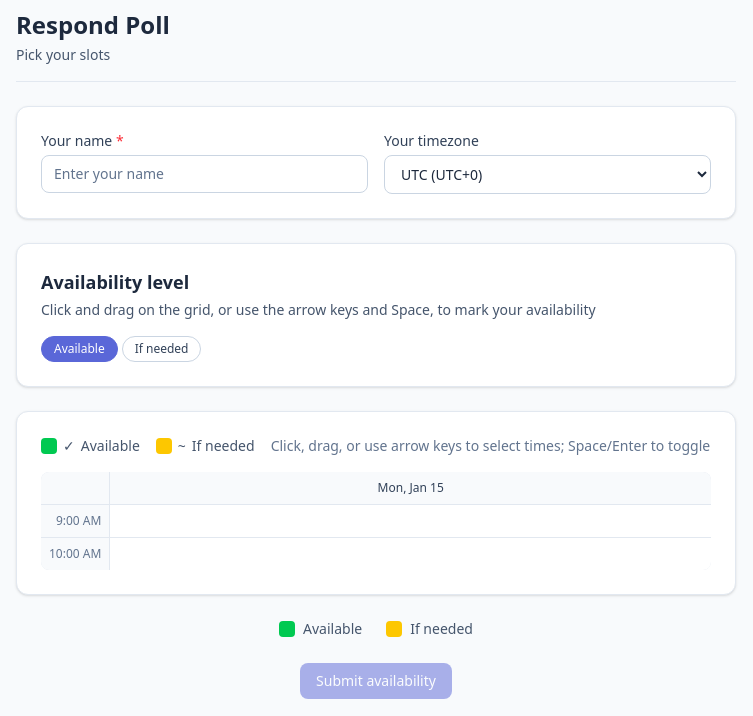
Test: PollRespond - submission › submits a new response and shows the success screen with an edit link
The image size is (753, 716).
Type "Bob" into the field labelled "Your name *" at (204, 174), box x1=41 y1=155 x2=368 y2=193
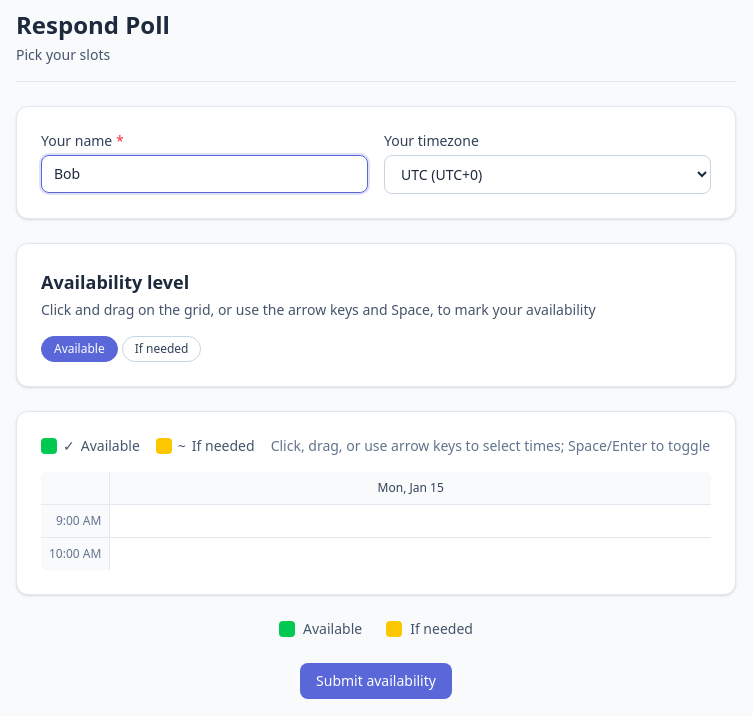
Press the mouse on the button named "9:00 AM on Mon, Jan 15: not selected" at (411, 521), box x1=110 y1=505 x2=711 y2=537
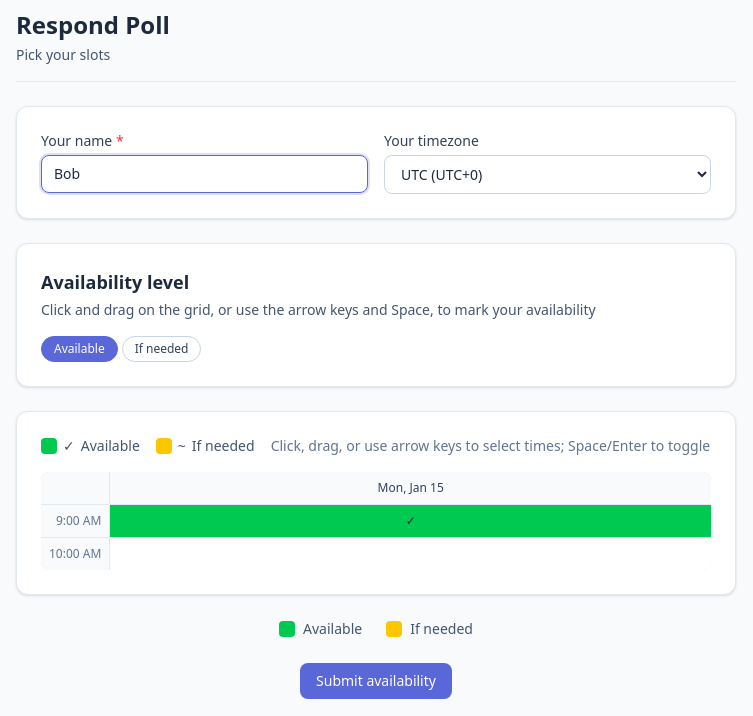
Click the button "Submit availability" at (376, 681), box x1=300 y1=663 x2=452 y2=699
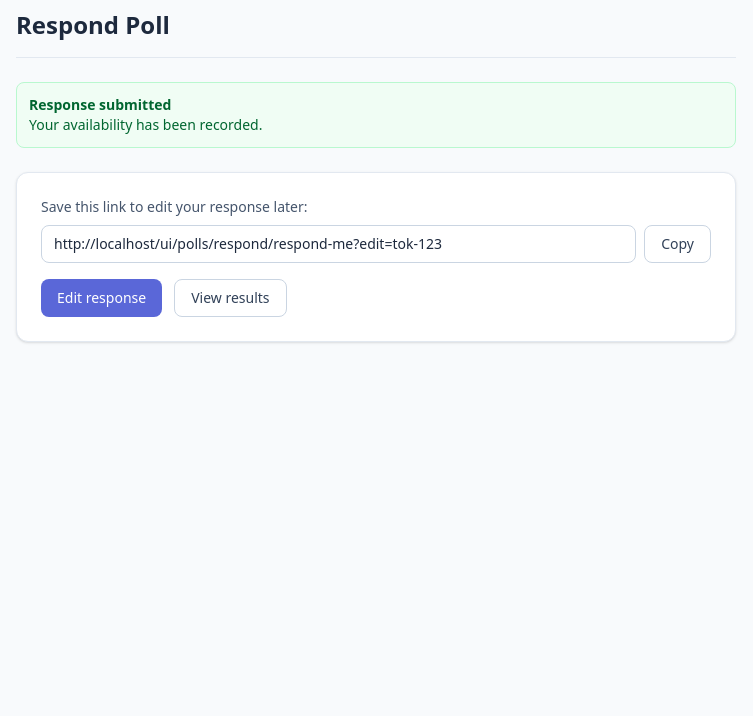
Now the heading "Response submitted" is shown, box x1=29 y1=95 x2=171 y2=114
Click the button "Copy" at (678, 244), box x1=644 y1=225 x2=711 y2=263
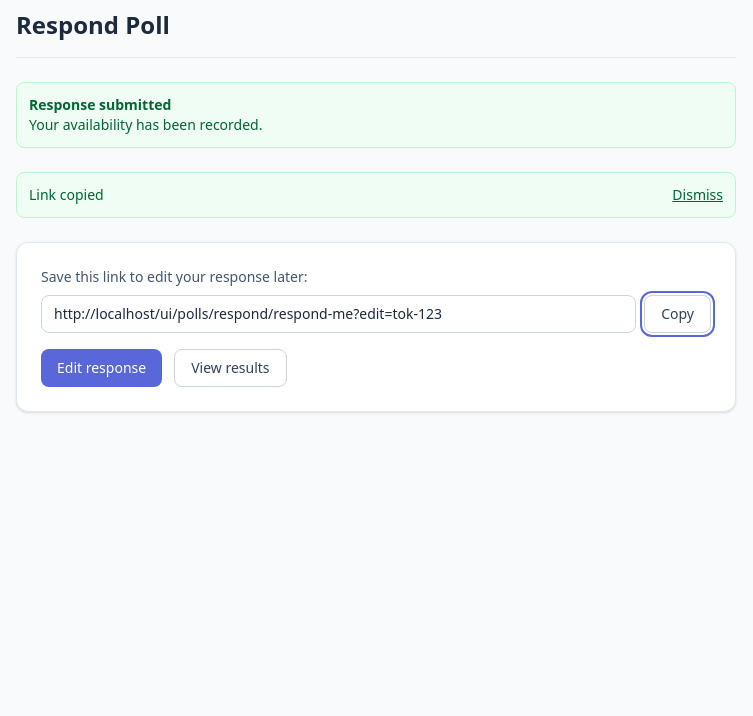
Now the text "Link copied" is shown, box x1=29 y1=185 x2=104 y2=205
